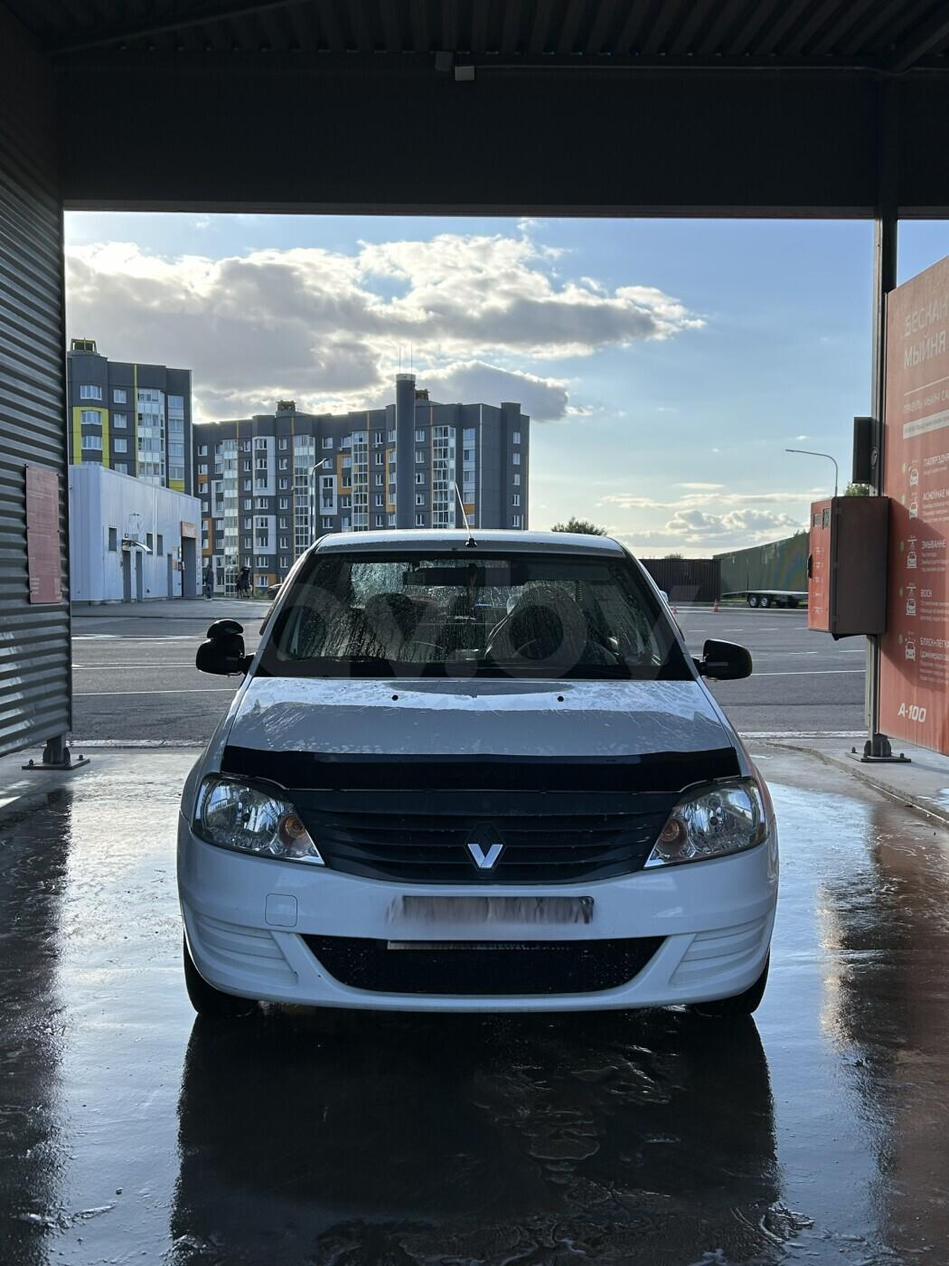Logan_2008-2015: (175, 530, 788, 1058)
